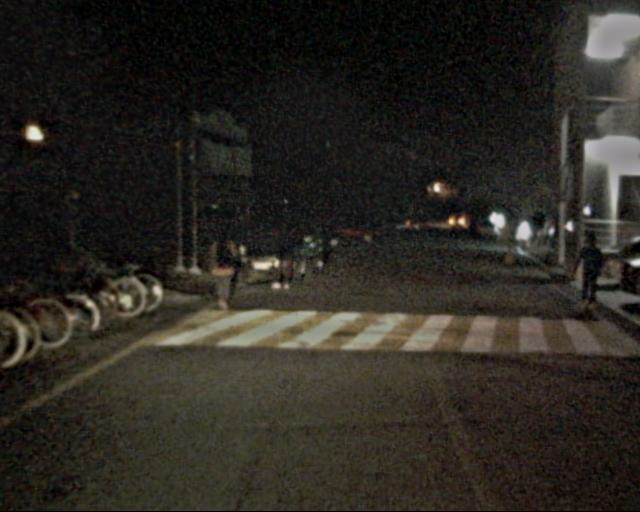person: (205, 230, 241, 316), (571, 231, 605, 319), (269, 218, 304, 293)
